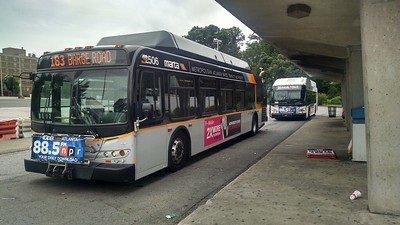bus: (23, 31, 268, 187), (267, 76, 319, 120)
